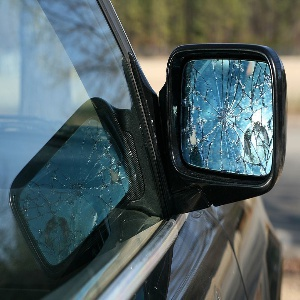side_mirror: (155, 42, 289, 205)
